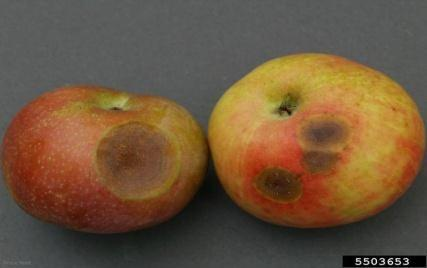rotten apple: (207, 51, 427, 243), (1, 81, 209, 236)
